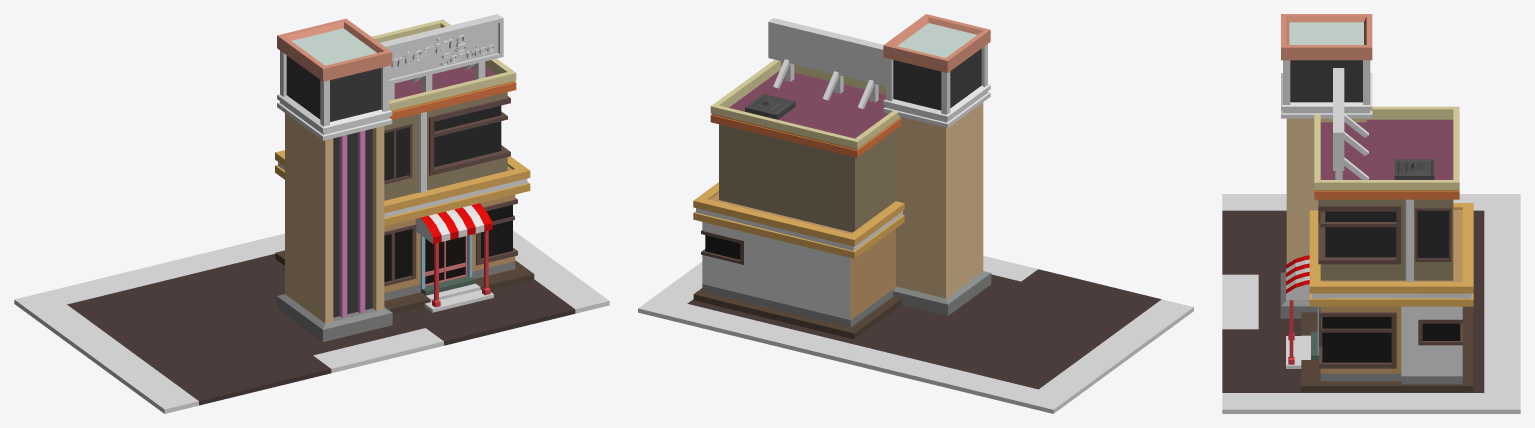
The model's file is Catering_Building_3.fbx.
3 renders of one model, left to right at view 1: azimuth 30°, elevation 25°; view 2: azimuth 150°, elevation 25°; view 3: azimuth 270°, elevation 25°, orthographic. The views are drawn at different scales.
Visible parts, largest first — view 1: Plan.001, Cube.003, Cube.001, Cube, Cube.017, Cube.005, Plane, Cube.006, Cube.011, Text, Cube.009, Cube.016 (+5 smaller); view 2: Plan.001, Cube.003, Cube.001, Cube, Cube.017, Cube.021, Cube.004; view 3: Plan.001, Cube.001, Cube, Cube.003, Cube.006, Cube.010, Cube.017, Plane, Cube.004, Cube.021, Cube.013, Cube.007 (+2 smaller).
Part boxes in pixels (x1,y1,x2,y2): Plan.001: (14,230,609,413); Cube.003: (276,18,392,341); Cube.001: (371,19,516,200); Cube: (275,150,534,314); Cube.017: (380,14,503,84); Cube.005: (339,130,365,317); Plane: (415,203,492,243); Cube.006: (429,96,510,175); Cube.011: (425,236,465,284); Text: (389,33,468,71); Cube.009: (384,224,416,286); Cube.016: (432,230,490,307); Plan.001: (638,256,1193,413); Cube.003: (883,14,991,315); Cube.001: (710,59,900,232); Cube: (693,182,904,339); Cube.017: (768,18,885,86); Cube.021: (773,59,878,108); Cube.004: (745,94,795,119); Plan.001: (1222,194,1520,413); Cube.001: (1314,106,1459,281); Cube: (1301,203,1473,392); Cube.003: (1280,14,1372,318); Cube.006: (1318,199,1400,264); Cube.010: (1319,306,1396,368); Cube.017: (1333,68,1344,170); Plane: (1286,255,1309,300); Cube.004: (1394,159,1434,179); Cube.021: (1335,113,1368,179); Cube.013: (1418,307,1462,345); Cube.007: (1415,208,1451,261).
Size of the model in its own units: 1396 by 832 by 817.
